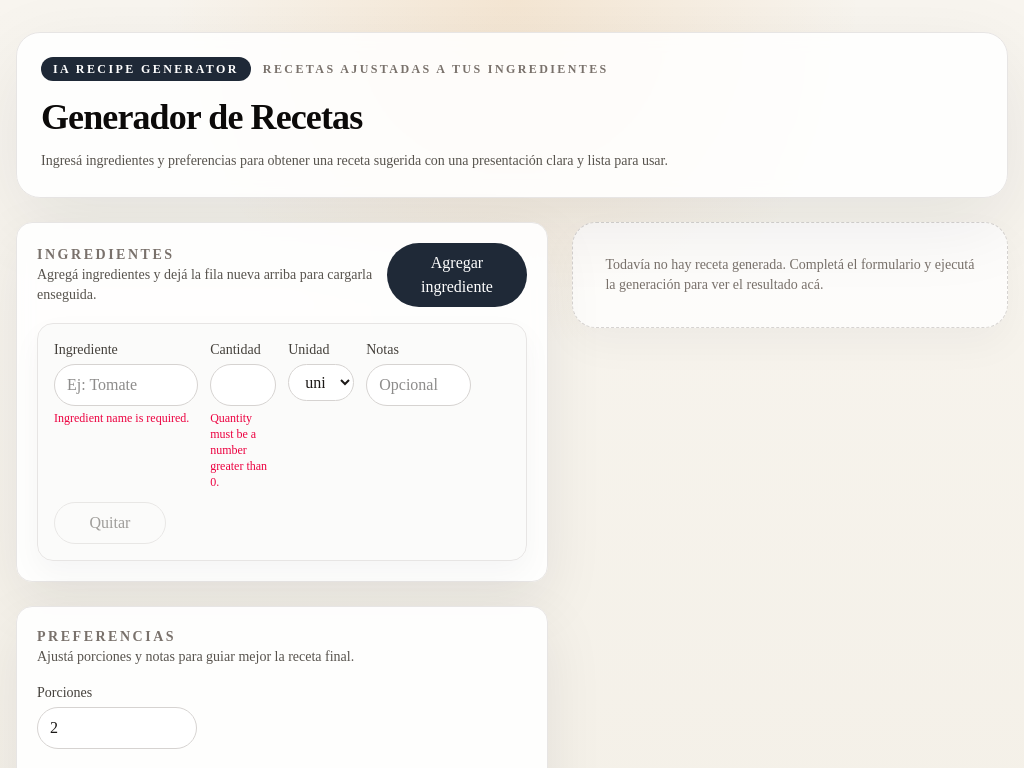
Scenario: RecipeGeneratorPage malformed payload regression › shows a safe error when the server returns an invalid recipe payload
Type " Tomate " into the field with placeholder "Ej: Tomate".
click(126, 385); type(" Tomate ")  # box [54,364,198,406]
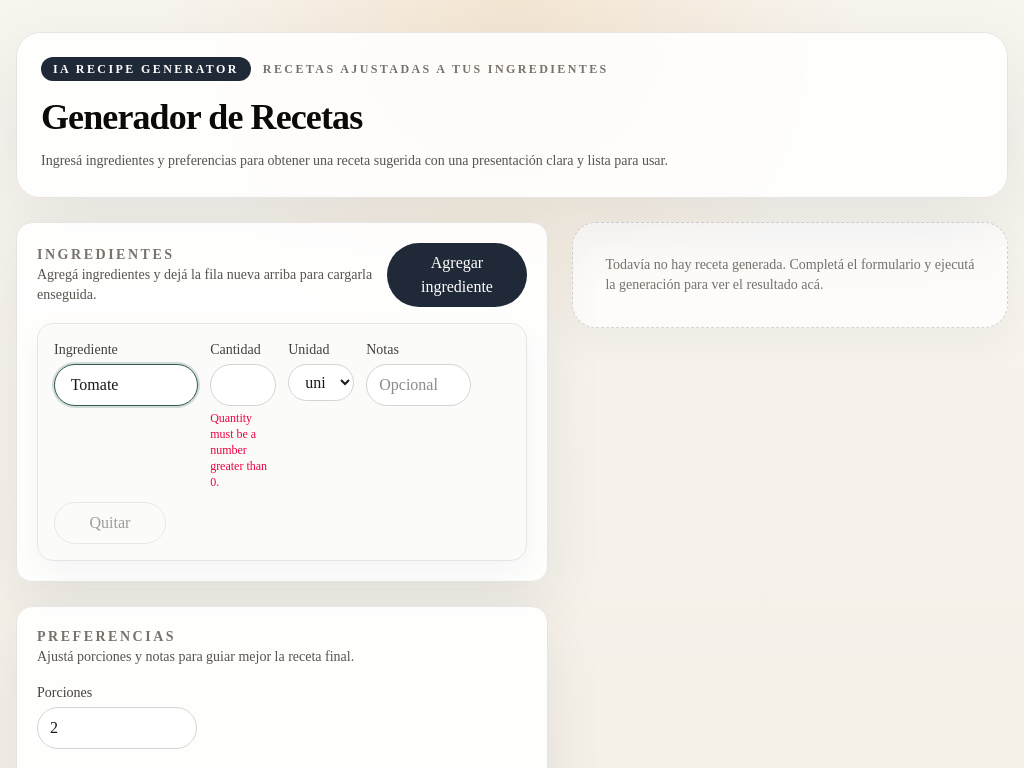
Type "2" into the number field labelled "Cantidad".
click(243, 385); type("2")  # box [210,364,276,406]
(page scrolled)
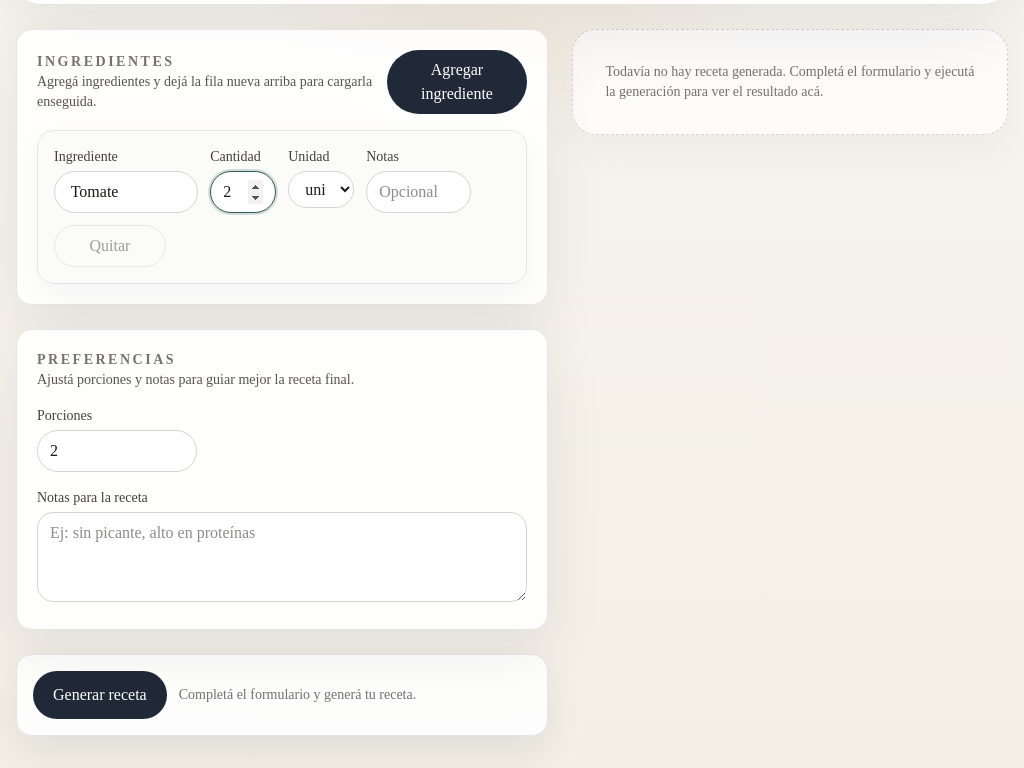
Click the button "Generar receta".
click(100, 695)  # box [33,671,167,719]
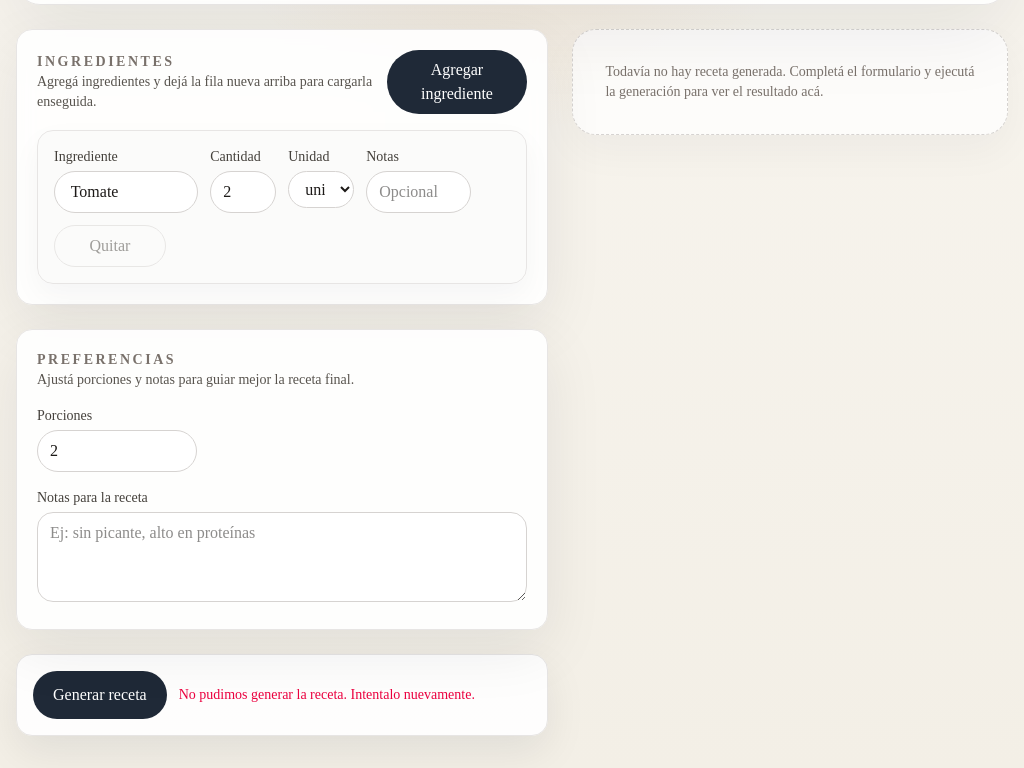
Check: the text "No pudimos generar la receta. Intentalo nuevamente." is shown, box [179,685,475,705]
